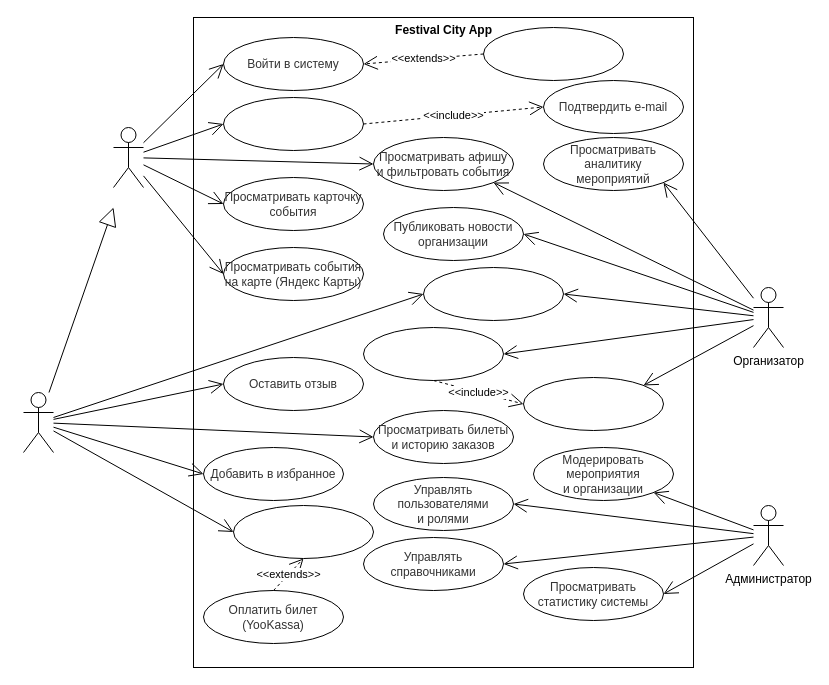
Some shapes in this 829 by 685 pixel diagram are drawn without their labels. Each missing label, with the box of its shape:
Войти через OAuth2 (Яндекс / Google): (482, 26, 624, 80)
Гость: (112, 126, 144, 188)
Житель: (22, 392, 54, 452)
Записаться на мероприятие: (232, 504, 374, 558)
Зарегистрироваться: (222, 96, 364, 150)
Создать мероприятие: (362, 326, 504, 380)
Управлять профилем: (422, 266, 564, 320)
Управлять сеансами и типами билетов: (522, 376, 664, 430)
